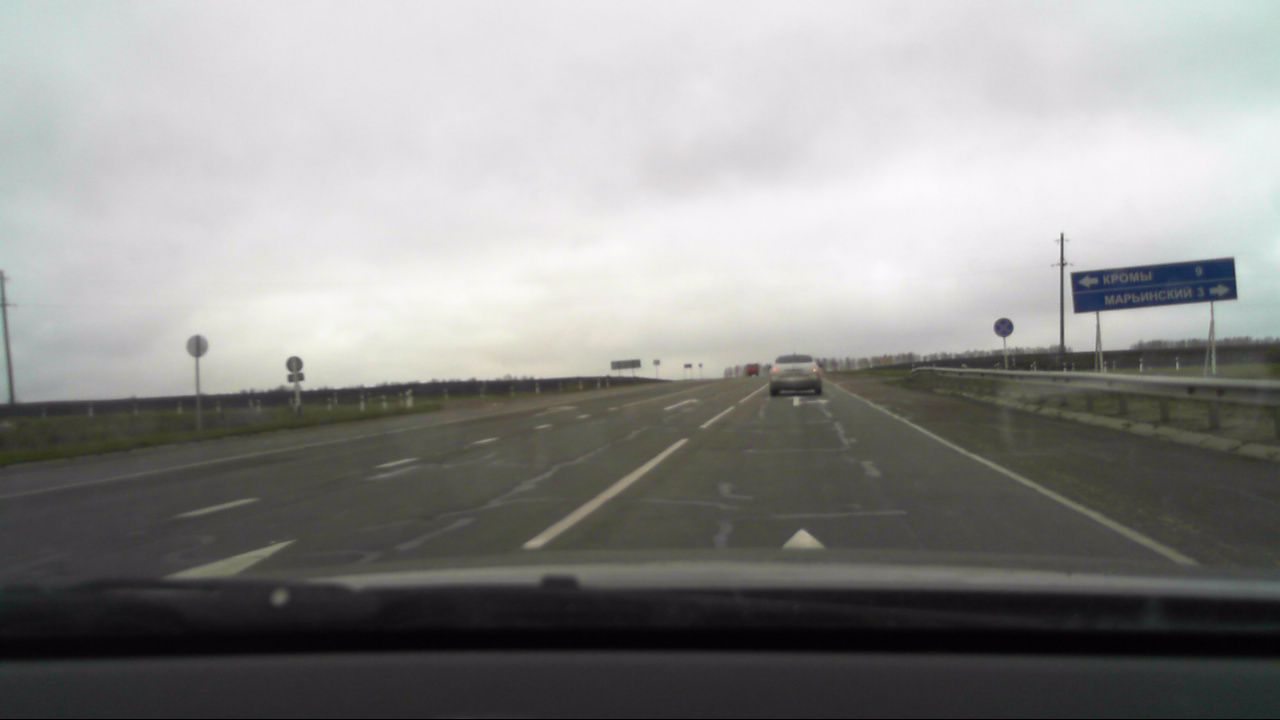No Parking: (990, 316, 1014, 339)
